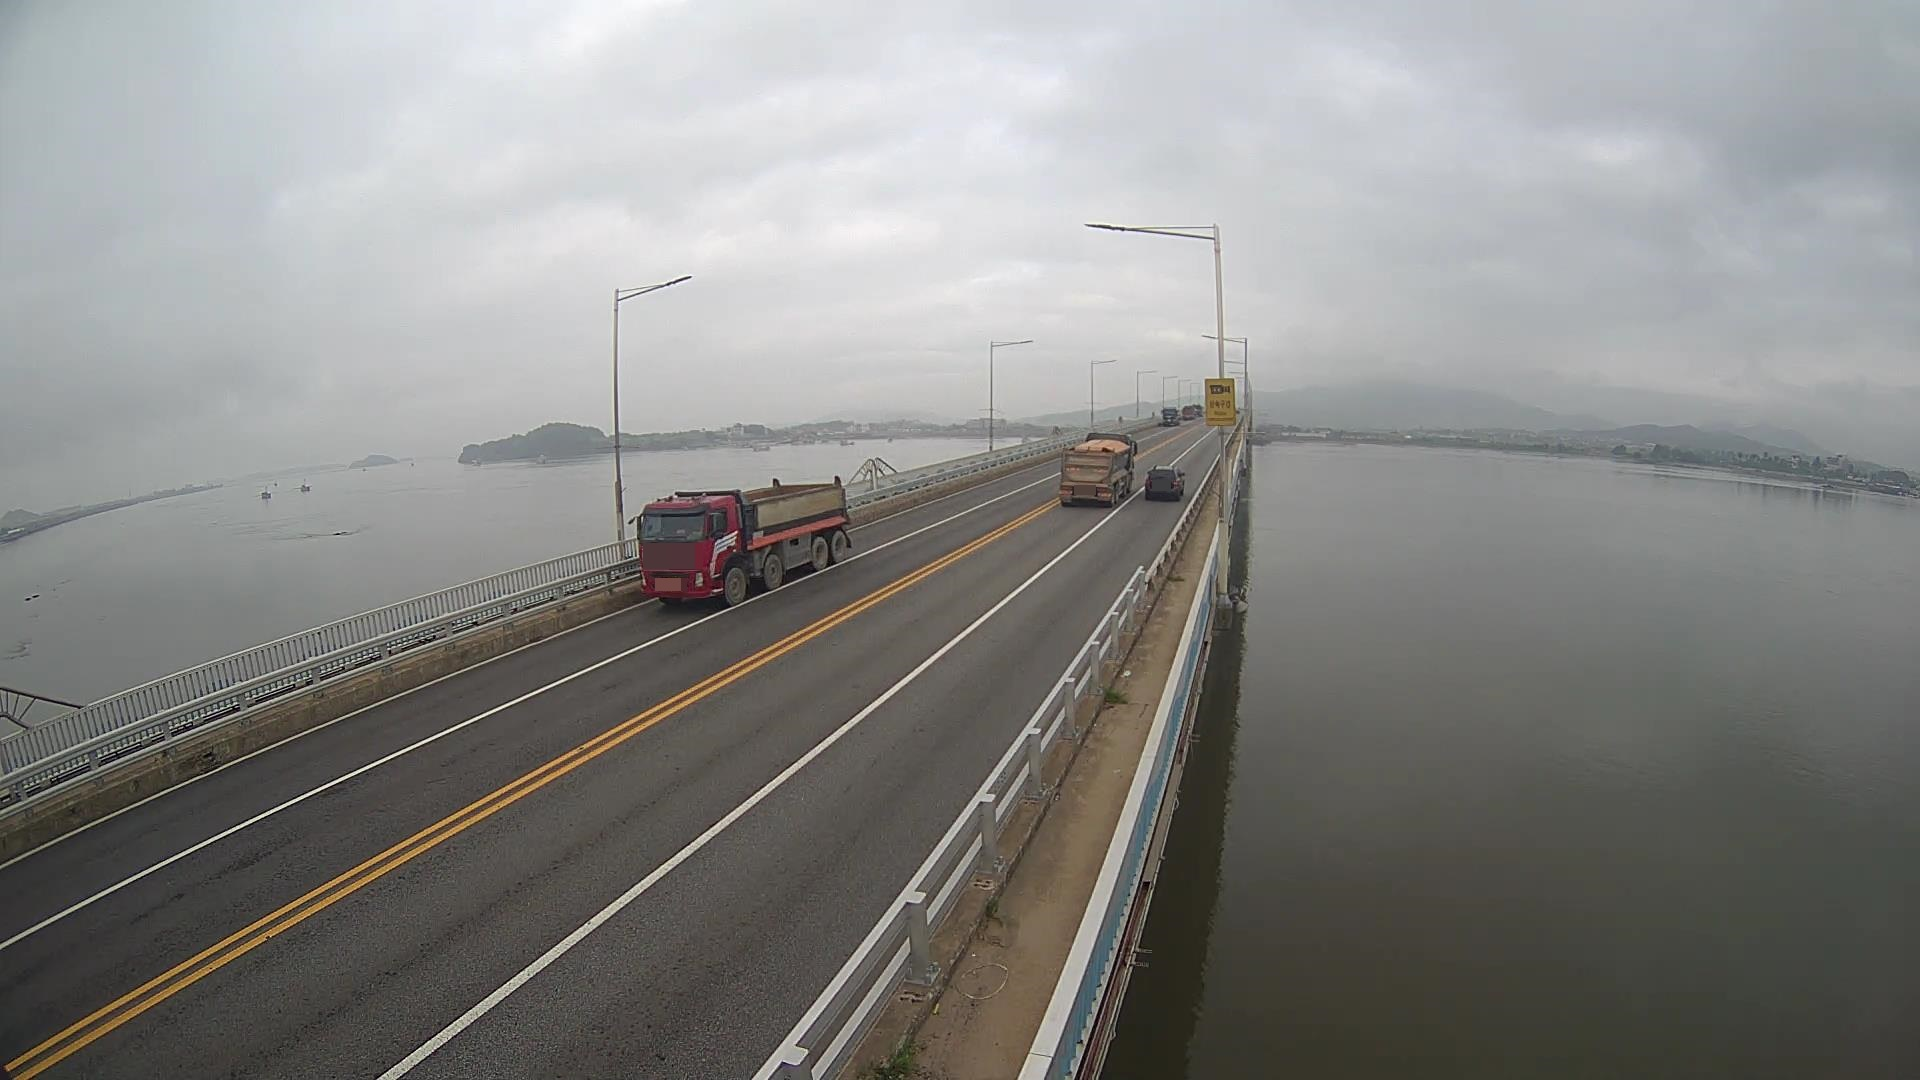정상차량: (628, 476, 851, 607)
